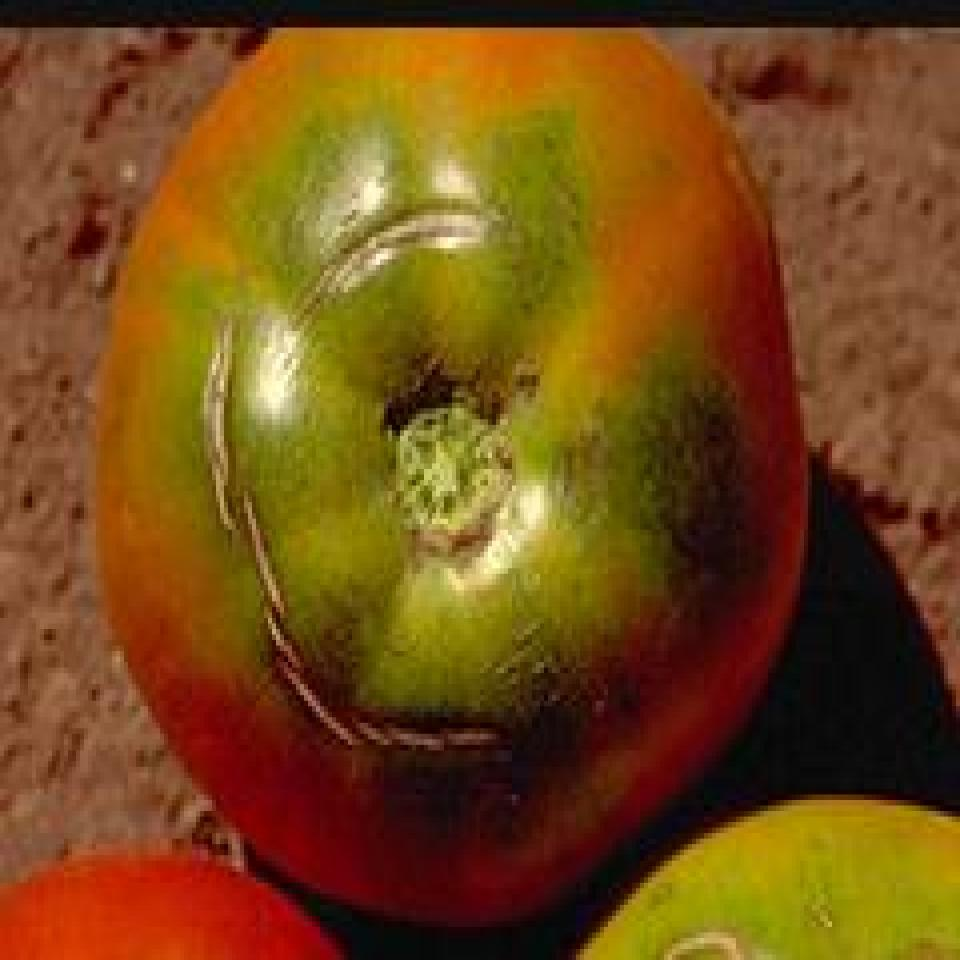Cracking: (228, 475, 496, 761), (274, 177, 528, 361), (174, 293, 235, 542)
